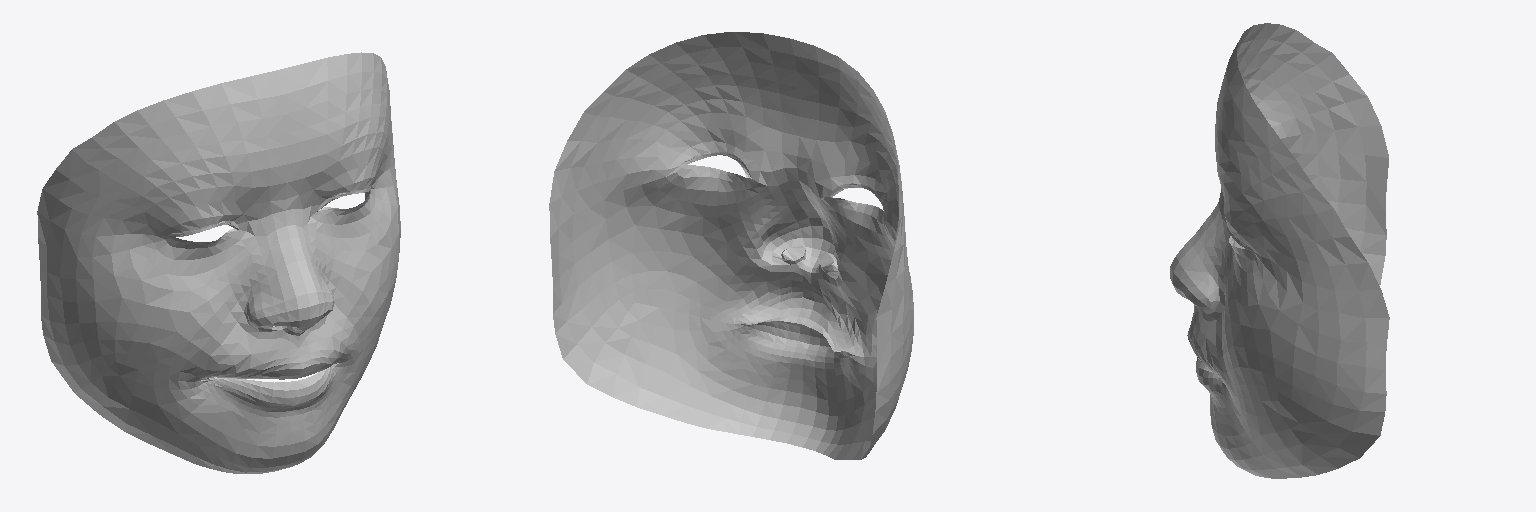
Rendered from mouthDimple_R.obj.
3 renders of one model, left to right at view 1: azimuth 30°, elevation 25°; view 2: azimuth 150°, elevation 25°; view 3: azimuth 270°, elevation 25°, orthographic.
Visible parts, largest first — view 1: default; view 2: default; view 3: default.
Part boxes in pixels (bbox=[...]): default: bbox=[37, 52, 400, 473]; default: bbox=[549, 32, 913, 459]; default: bbox=[1170, 23, 1389, 478].
Size of the model in its own units: 0.1624 by 0.1848 by 0.0911.